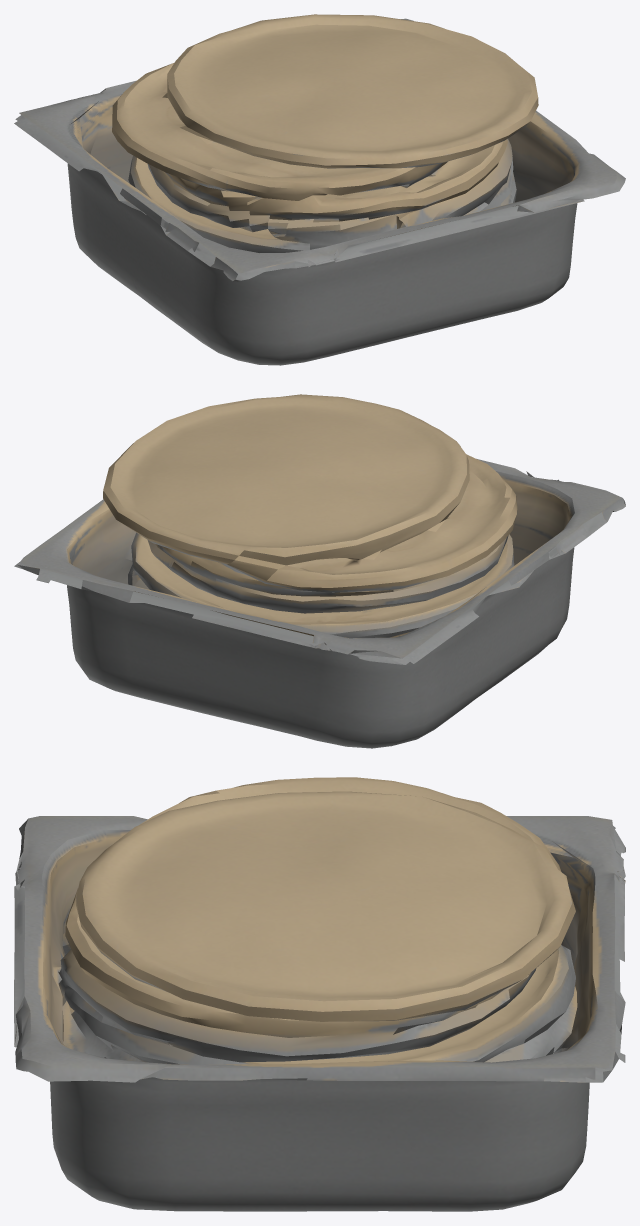
The model's file is Meshy_AI_Stacked_Tortillas_in__0831085059_texture.fbx.
3 renders of one model, top to bottom at view 1: azimuth 30°, elevation 25°; view 2: azimuth 150°, elevation 25°; view 3: azimuth 270°, elevation 25°, orthographic. The views are drawn at different scales.
Visible parts, largest first — view 1: Mesh0; view 2: Mesh0; view 3: Mesh0.
Part boxes in pixels (x1,y1,x2,y2): Mesh0: (14,14,625,365); Mesh0: (14,394,625,748); Mesh0: (14,777,625,1211).
Size of the model in its own units: 190 by 83.24 by 189.
1 material, 1 textured.
